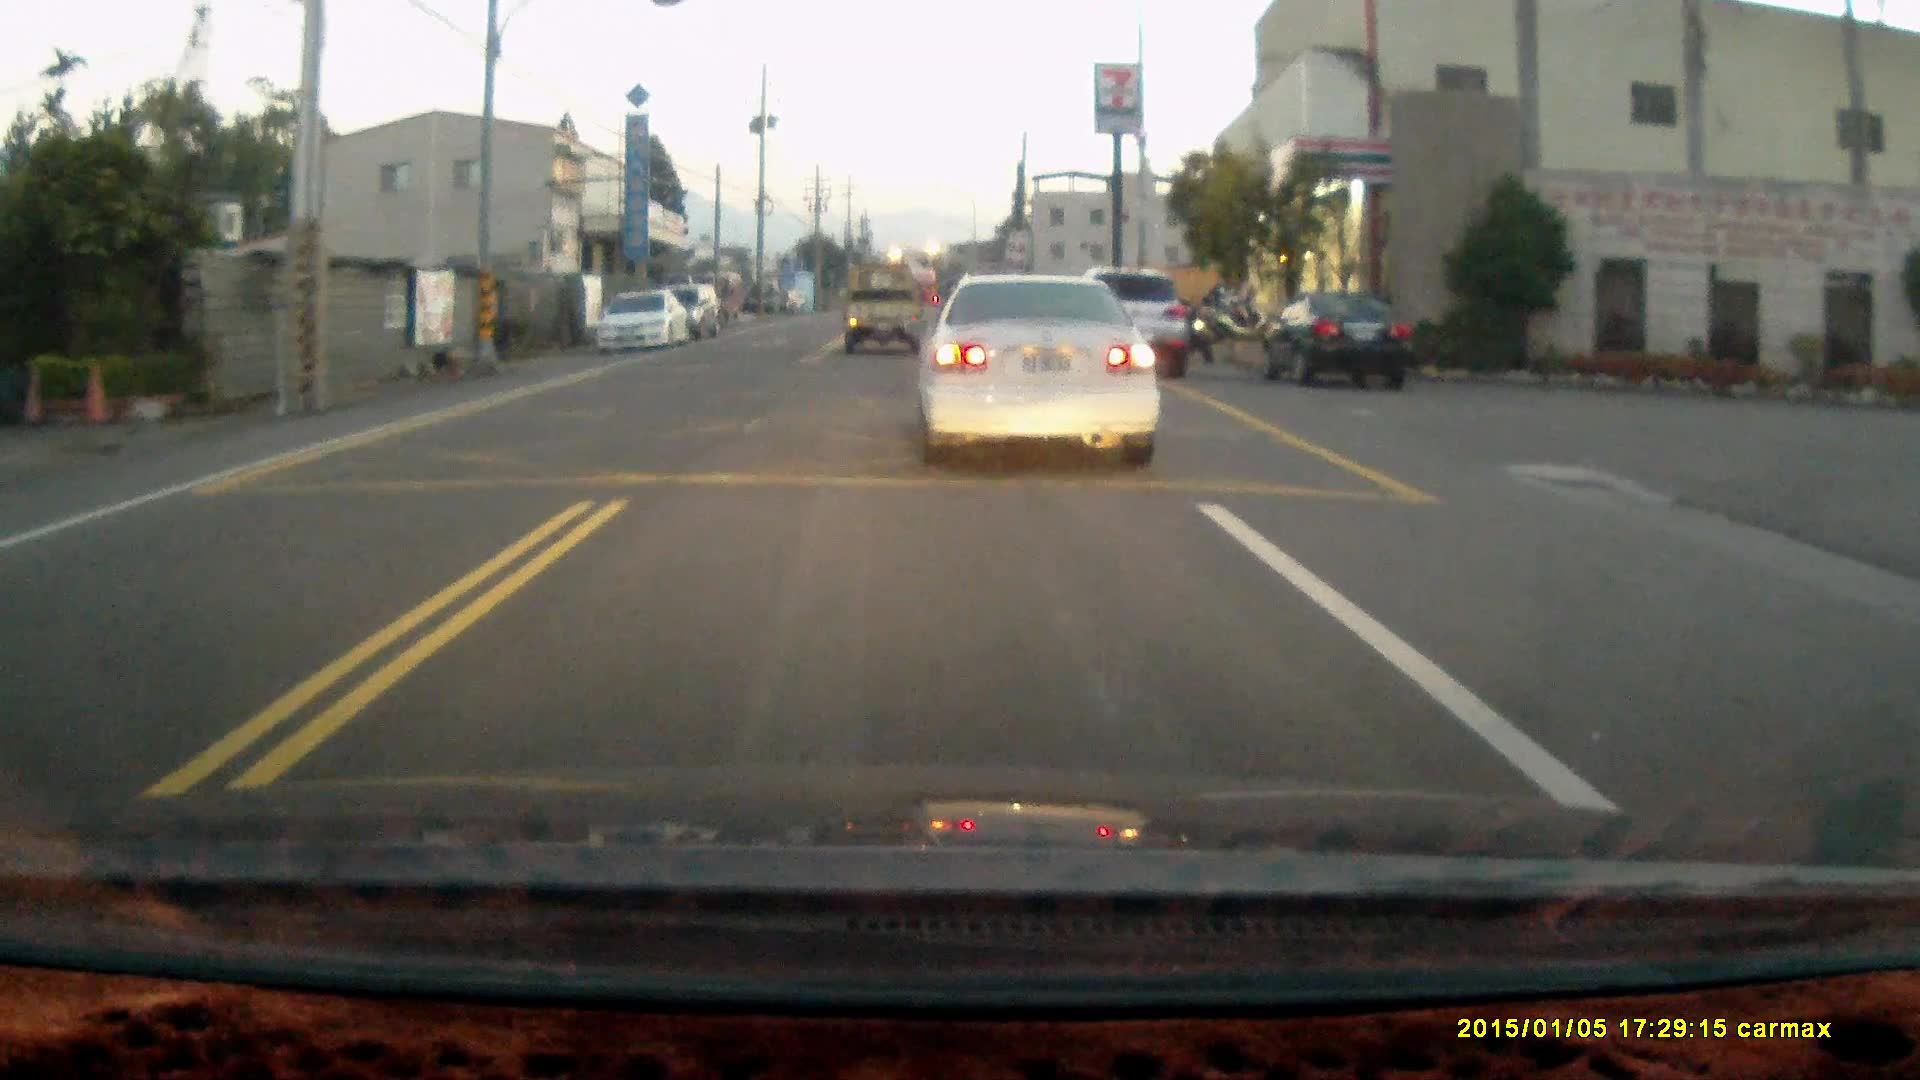vehicle: (916, 272, 1166, 471), (1257, 290, 1418, 392), (1068, 266, 1192, 375), (841, 264, 930, 356), (587, 289, 692, 355)
